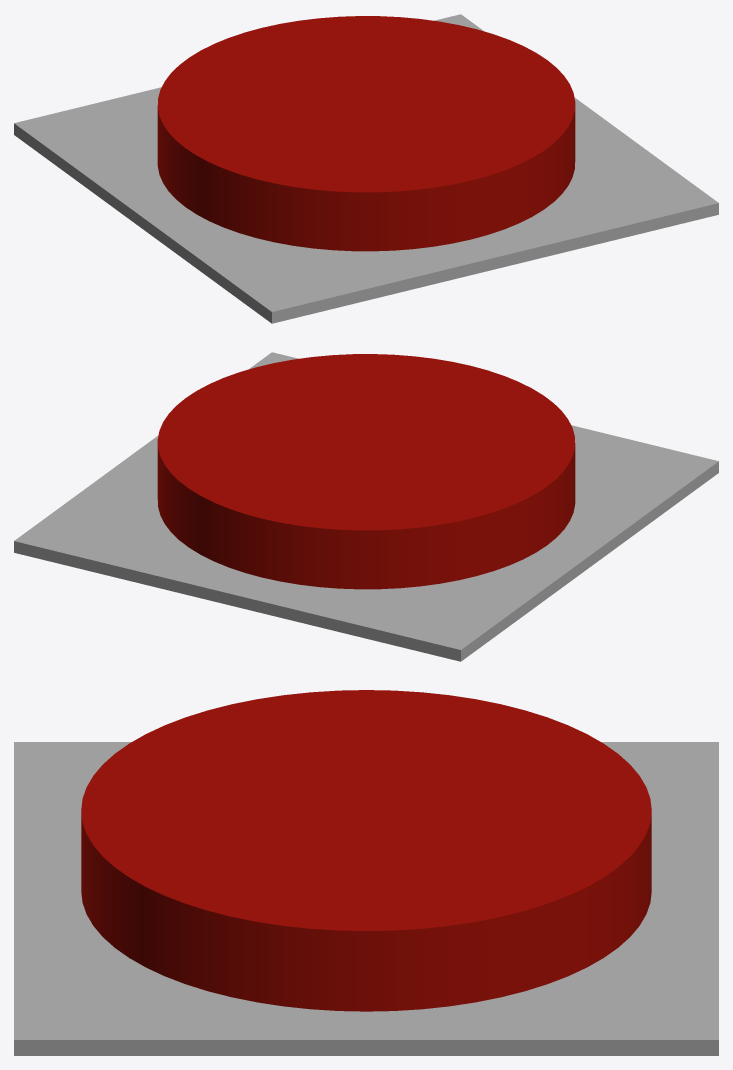
File: bottone.fbx
3 renders of one model, top to bottom at view 1: azimuth 30°, elevation 25°; view 2: azimuth 150°, elevation 25°; view 3: azimuth 270°, elevation 25°, orthographic. The views are drawn at different scales.
Visible parts, largest first — view 1: Bottone; view 2: Bottone; view 3: Bottone.
Part boxes in pixels (box(x1,y1,x2,y2)): Bottone: box(14, 14, 718, 323); Bottone: box(14, 352, 718, 661); Bottone: box(14, 690, 718, 1055).
Size of the model in its own units: 200 by 30.19 by 200.
